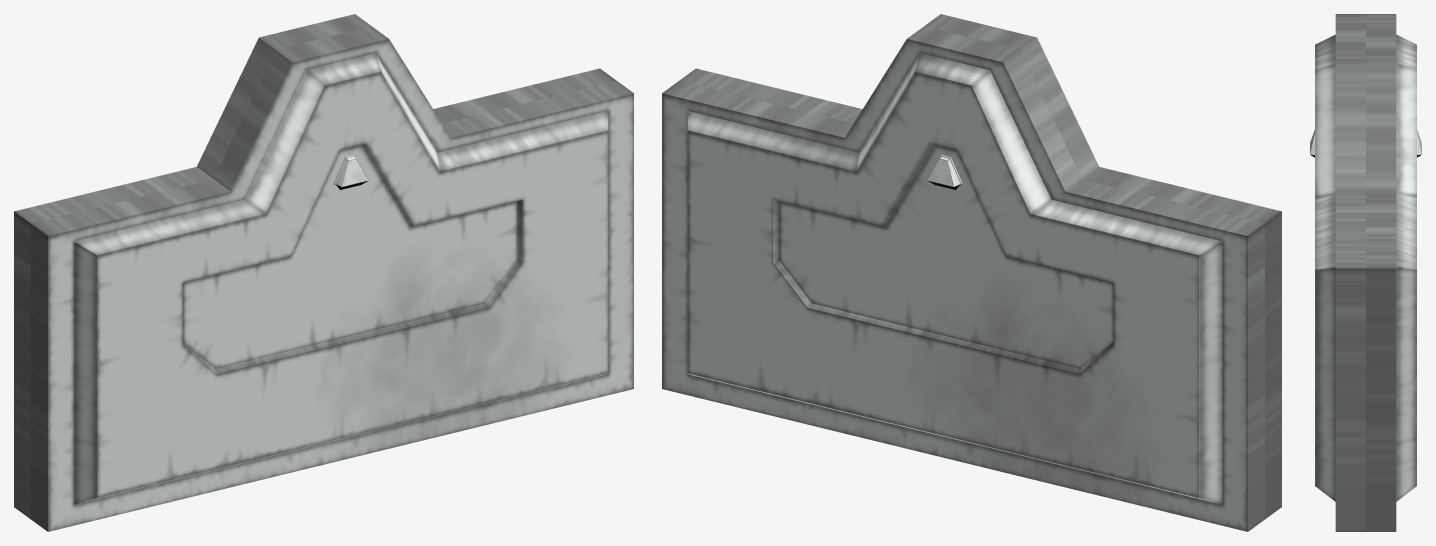
Rendered from doordown00.fbx.
3 renders of one model, left to right at view 1: azimuth 30°, elevation 25°; view 2: azimuth 150°, elevation 25°; view 3: azimuth 270°, elevation 25°, orthographic. The views are drawn at different scales.
Visible parts, largest first — view 1: doordown; view 2: doordown; view 3: doordown.
Boxes of the visible parts, x1,y1,x2,y2 form: doordown: [14, 14, 633, 531]; doordown: [662, 14, 1281, 531]; doordown: [1310, 14, 1421, 531].
Bounding box in the file's own units: 174 × 116 × 32.3.
